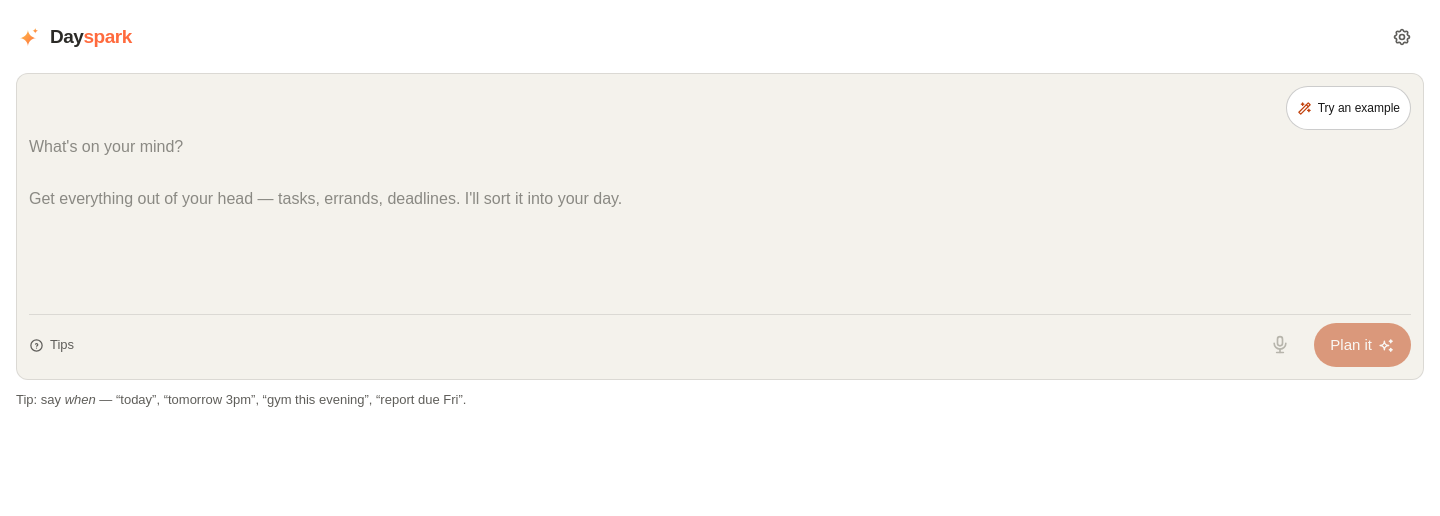
Test case: CaptureFlow › never gates or meters a Pro user, even with exhausted usage
Step 1. Type "something" into the text box named "brain dump" → (720, 222), box [29,134,1411,310]
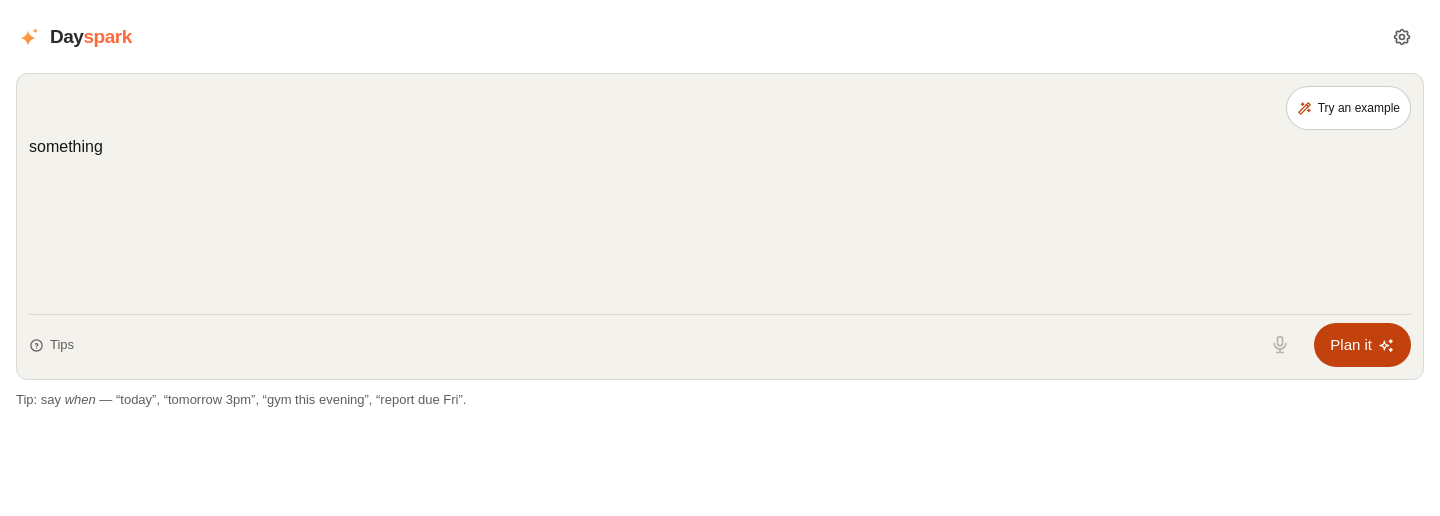
Step 2. Click the button "Plan it" → click(1363, 345), box [1314,323,1411,367]
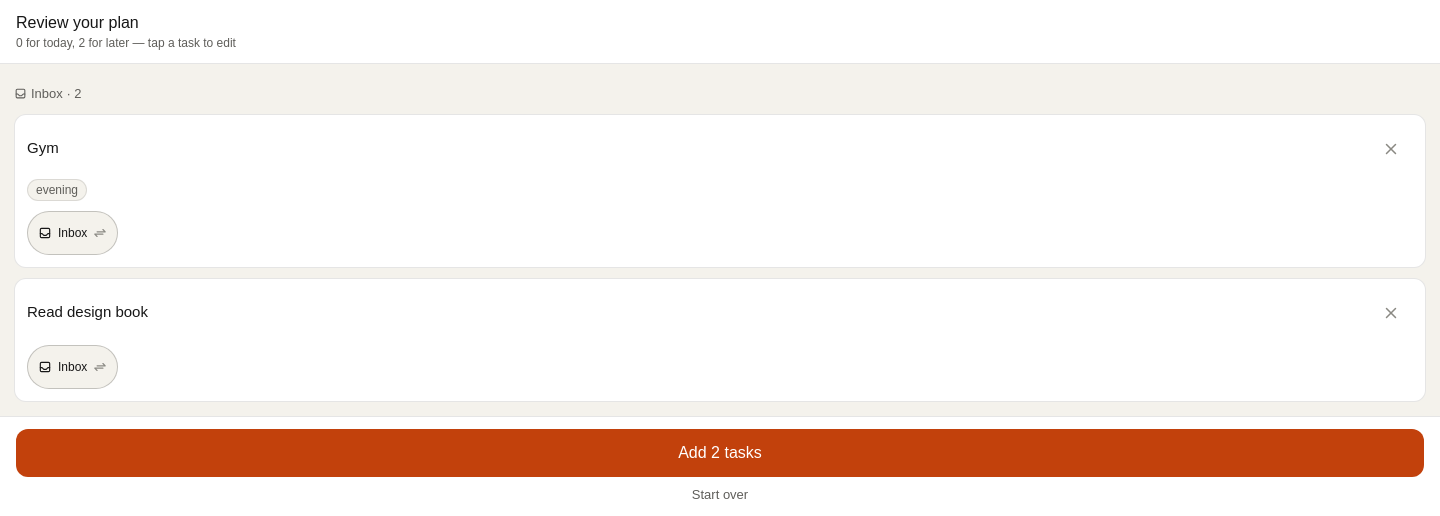
Now the button "Add 2 tasks" is shown, box [16,428,1424,476]
